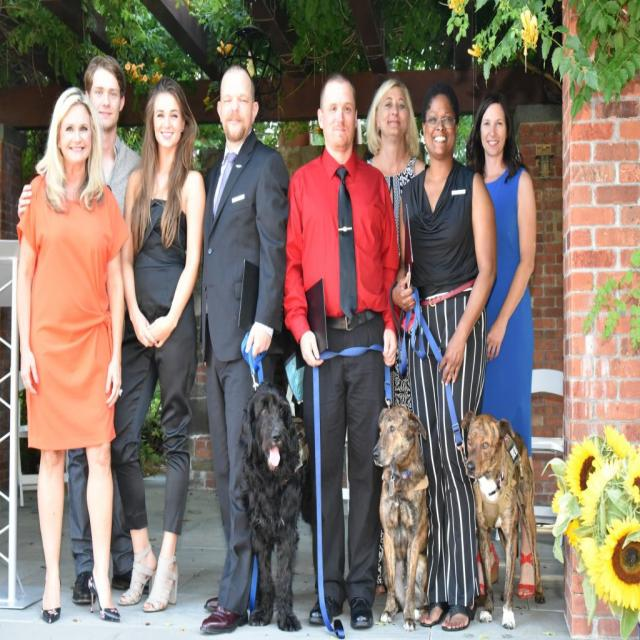body: (16, 54, 156, 608), (280, 70, 400, 634), (386, 78, 502, 635), (14, 79, 131, 628), (184, 57, 294, 639), (114, 69, 208, 618), (465, 88, 539, 603), (364, 75, 428, 596)
